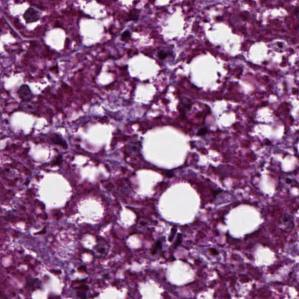steatosis: (138, 128, 192, 168), (159, 180, 200, 225)
